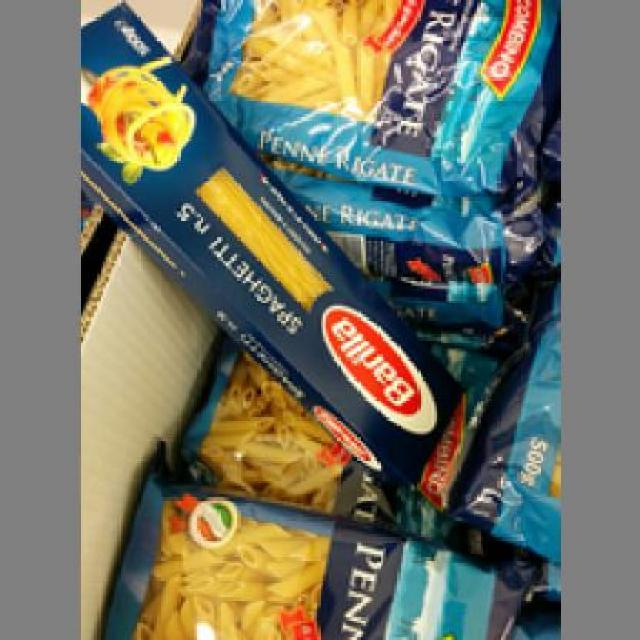Pasta: (77, 0, 463, 492), (100, 460, 520, 637), (193, 0, 558, 195)
